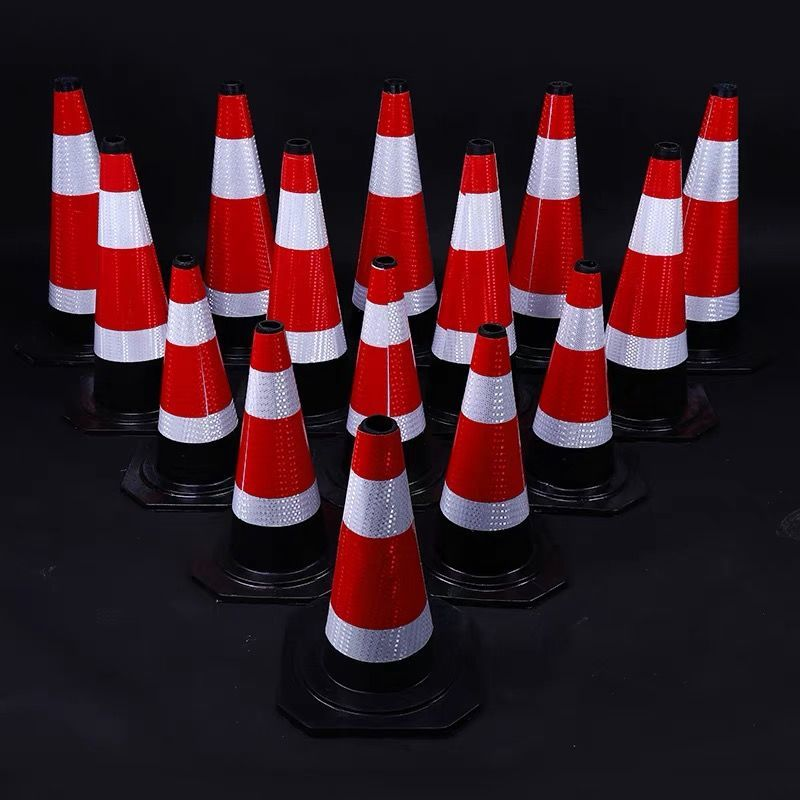traffic_cone: (311, 415, 484, 747), (422, 316, 576, 625), (202, 297, 344, 628), (237, 131, 412, 393), (482, 60, 639, 335), (595, 135, 734, 440), (644, 75, 782, 370), (62, 132, 186, 450), (126, 234, 264, 514), (180, 63, 318, 343), (523, 247, 659, 517), (416, 127, 552, 383), (343, 72, 480, 310), (19, 66, 133, 327), (325, 229, 444, 464)
